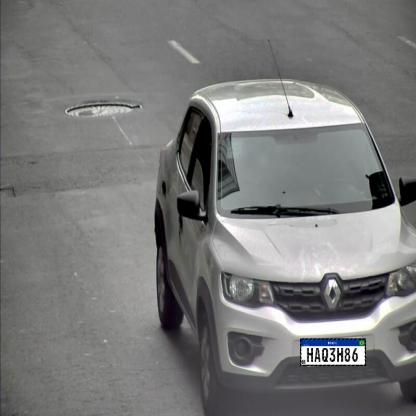PlacaM: (300, 338, 366, 366)
